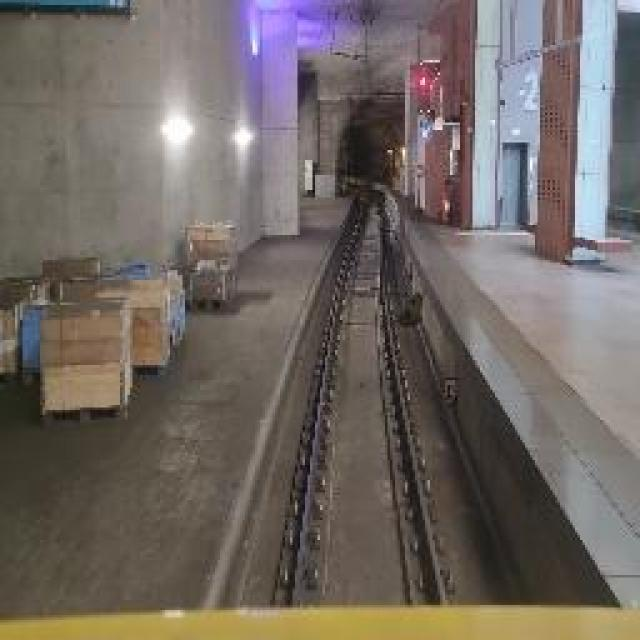rail: (244, 196, 477, 609)
